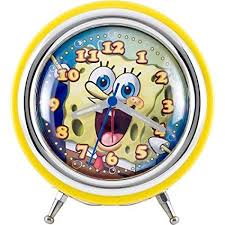alarm_clock: (12, 0, 214, 223), (12, 0, 209, 223), (20, 0, 209, 223), (20, 7, 209, 223)
